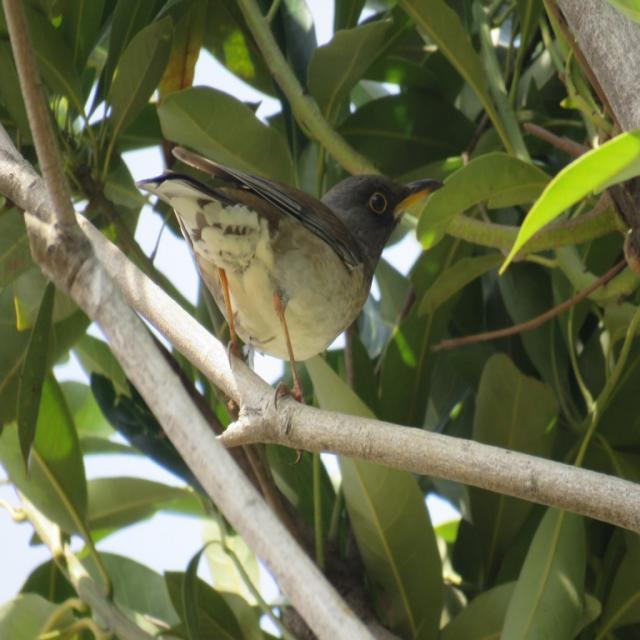bird: (130, 169, 444, 404)
